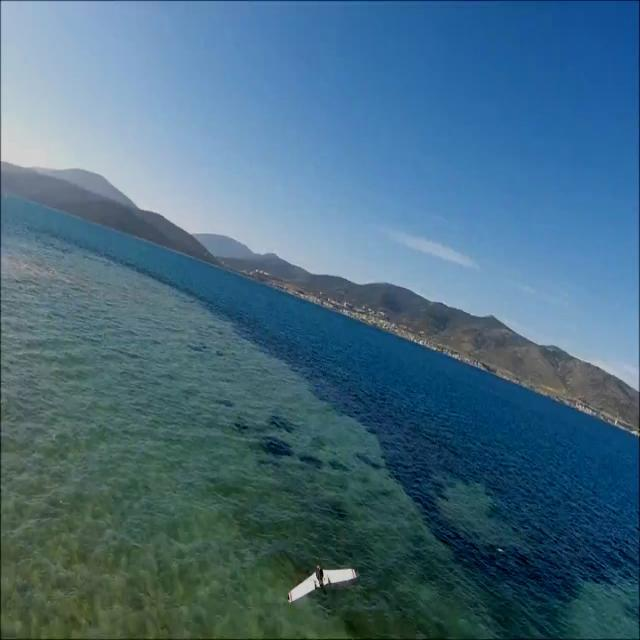iha: (317, 552, 324, 608)
